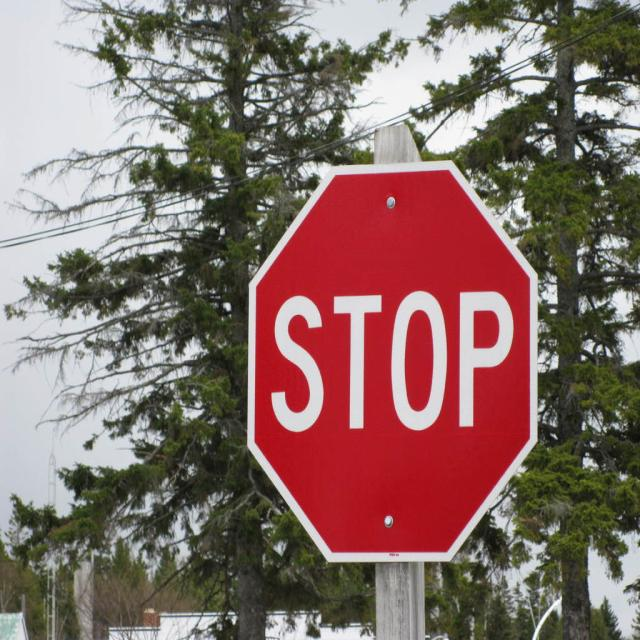Stop-sign: (246, 158, 539, 566)
